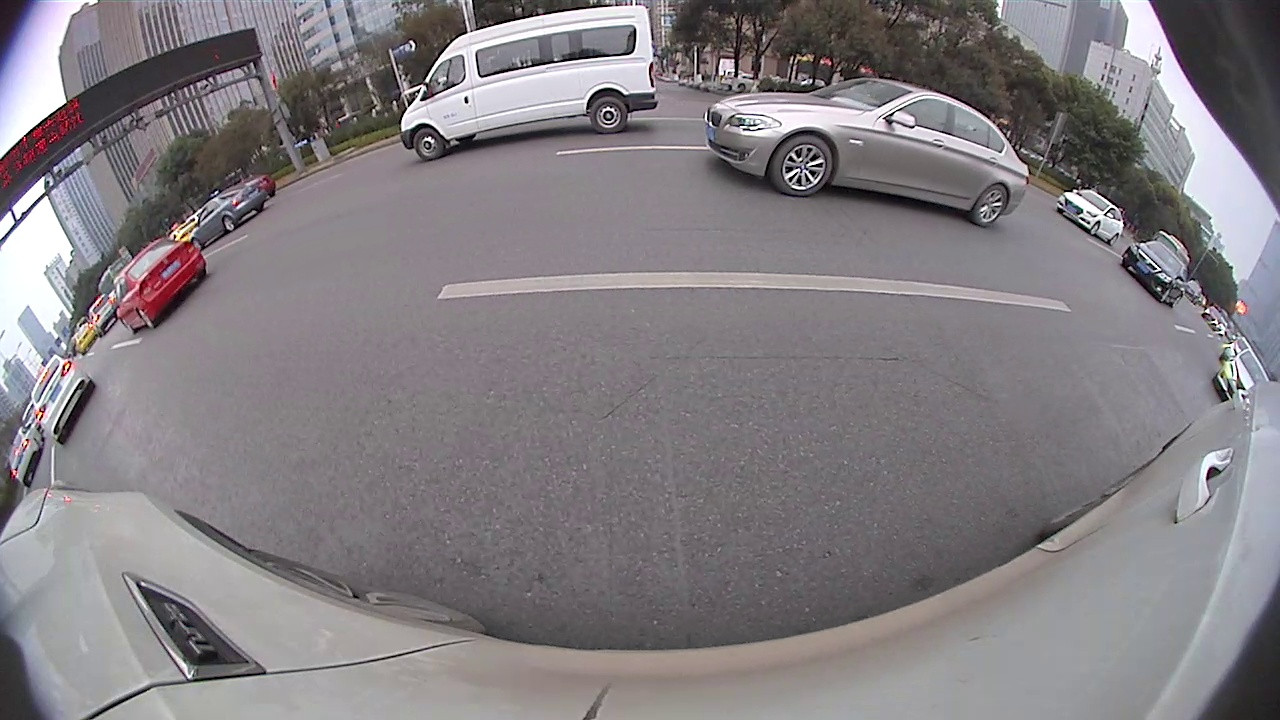car: (707, 79, 1024, 228), (402, 5, 656, 161), (114, 238, 208, 328), (28, 355, 95, 443), (192, 184, 273, 242), (1122, 241, 1187, 308), (1058, 191, 1123, 246), (1213, 350, 1269, 400)
front: (773, 131, 836, 198), (411, 127, 445, 161), (1091, 221, 1102, 239)
rear: (972, 183, 1010, 229), (589, 97, 630, 136), (220, 215, 236, 231), (1108, 231, 1119, 245)
